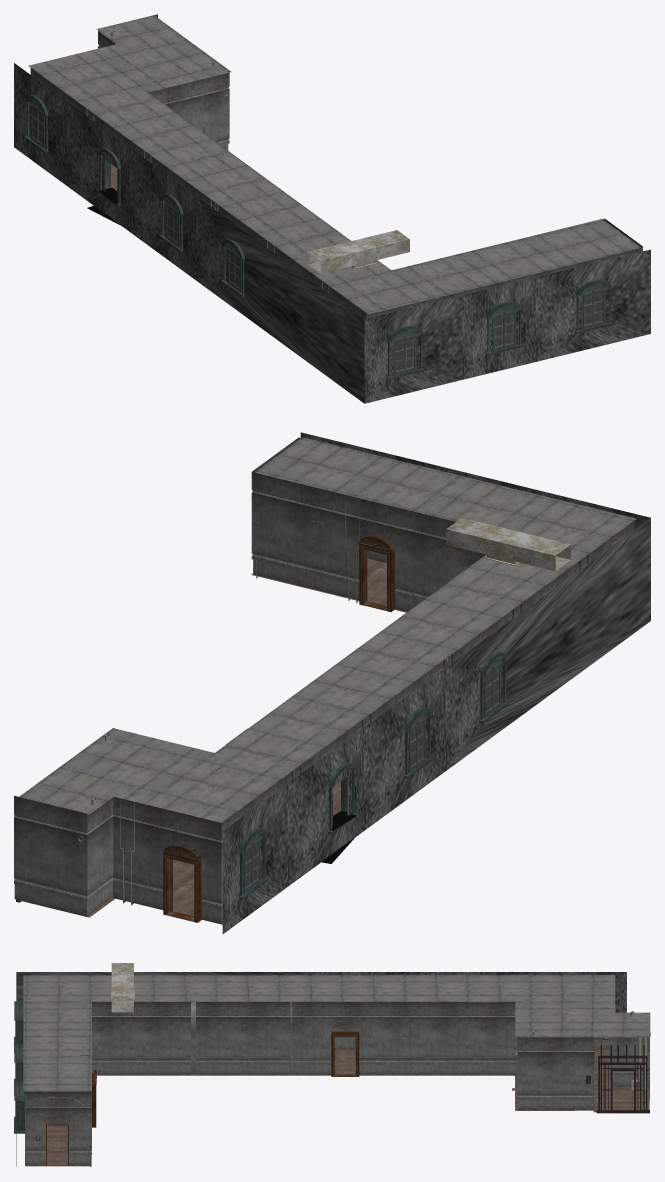
3 renders of one model, top to bottom at view 1: azimuth 30°, elevation 25°; view 2: azimuth 150°, elevation 25°; view 3: azimuth 270°, elevation 25°, orthographic. The views are drawn at different scales.
Parts seen in each view (by area): view 1: LOD_1_Group_0_Sub_9__Wall_M, LOD_1_Group_0_Sub_1__st2_police2fLeftCeiling02, LOD_1_Group_0_Sub_2__st2_police2fLeftWall09, LOD_1_Group_0_Sub_3__st2_police2fLeftDoor01, LOD_1_Group_0_Sub_14__st2_208_0_001_st2_208_0_WestOffic_1ec5, LOD_1_Group_0_Sub_8__st2_police2fLeftDoor01_Glass; view 2: LOD_1_Group_0_Sub_1__st2_police2fLeftCeiling02, LOD_1_Group_0_Sub_2__st2_police2fLeftWall09, LOD_1_Group_0_Sub_9__Wall_M, LOD_1_Group_0_Sub_3__st2_police2fLeftDoor01, LOD_1_Group_0_Sub_14__st2_208_0_001_st2_208_0_WestOffic_1ec5, LOD_1_Group_0_Sub_7__st2_police2fLeftFloor02, LOD_1_Group_0_Sub_8__st2_police2fLeftDoor01_Glass; view 3: LOD_1_Group_0_Sub_2__st2_police2fLeftWall09, LOD_1_Group_0_Sub_1__st2_police2fLeftCeiling02, LOD_1_Group_0_Sub_7__st2_police2fLeftFloor02, LOD_1_Group_0_Sub_9__Wall_M, LOD_1_Group_0_Sub_3__st2_police2fLeftDoor01, LOD_1_Group_0_Sub_12__st2_police2fRightLift01, LOD_1_Group_0_Sub_14__st2_208_0_001_st2_208_0_WestOffic_1ec5, LOD_1_Group_0_Sub_11__st2_VinylPipeIronDuct_A.
Boxes of the visible parts, bbox=[...] form: LOD_1_Group_0_Sub_9__Wall_M: bbox=[14, 63, 650, 403]; LOD_1_Group_0_Sub_1__st2_police2fLeftCeiling02: bbox=[28, 15, 641, 314]; LOD_1_Group_0_Sub_2__st2_police2fLeftWall09: bbox=[30, 14, 642, 319]; LOD_1_Group_0_Sub_3__st2_police2fLeftDoor01: bbox=[24, 94, 612, 379]; LOD_1_Group_0_Sub_14__st2_208_0_001_st2_208_0_WestOffic_1ec5: bbox=[308, 230, 409, 273]; LOD_1_Group_0_Sub_8__st2_police2fLeftDoor01_Glass: bbox=[32, 109, 602, 371]; LOD_1_Group_0_Sub_1__st2_police2fLeftCeiling02: bbox=[19, 437, 636, 822]; LOD_1_Group_0_Sub_2__st2_police2fLeftWall09: bbox=[14, 437, 636, 924]; LOD_1_Group_0_Sub_9__Wall_M: bbox=[222, 432, 650, 933]; LOD_1_Group_0_Sub_3__st2_police2fLeftDoor01: bbox=[162, 534, 508, 922]; LOD_1_Group_0_Sub_14__st2_208_0_001_st2_208_0_WestOffic_1ec5: bbox=[446, 518, 570, 571]; LOD_1_Group_0_Sub_7__st2_police2fLeftFloor02: bbox=[16, 558, 406, 924]; LOD_1_Group_0_Sub_8__st2_police2fLeftDoor01_Glass: bbox=[246, 669, 498, 887]; LOD_1_Group_0_Sub_2__st2_police2fLeftWall09: bbox=[25, 1002, 649, 1166]; LOD_1_Group_0_Sub_1__st2_police2fLeftCeiling02: bbox=[23, 975, 650, 1091]; LOD_1_Group_0_Sub_7__st2_police2fLeftFloor02: bbox=[25, 1049, 649, 1166]; LOD_1_Group_0_Sub_9__Wall_M: bbox=[16, 972, 626, 1166]; LOD_1_Group_0_Sub_3__st2_police2fLeftDoor01: bbox=[14, 1001, 618, 1165]; LOD_1_Group_0_Sub_12__st2_police2fRightLift01: bbox=[596, 1045, 649, 1113]; LOD_1_Group_0_Sub_14__st2_208_0_001_st2_208_0_WestOffic_1ec5: bbox=[110, 963, 134, 1012]; LOD_1_Group_0_Sub_11__st2_VinylPipeIronDuct_A: bbox=[21, 1011, 650, 1112].
Bounding box in the file's own units: 14.1 × 4.7 × 30.3.
